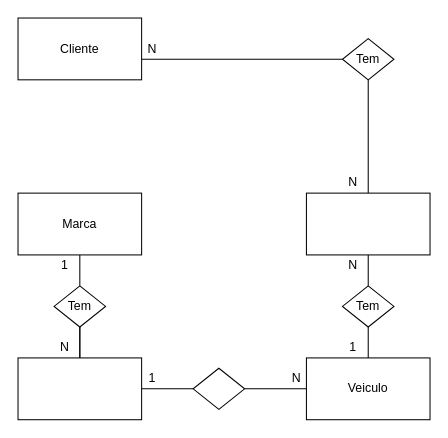
This 448x438 diagram has some shape labels left out. Each missing label, with the centre of its shape:
Aluguel: point (367, 223)
Modelo: point (79, 388)
Possui: point (218, 388)
